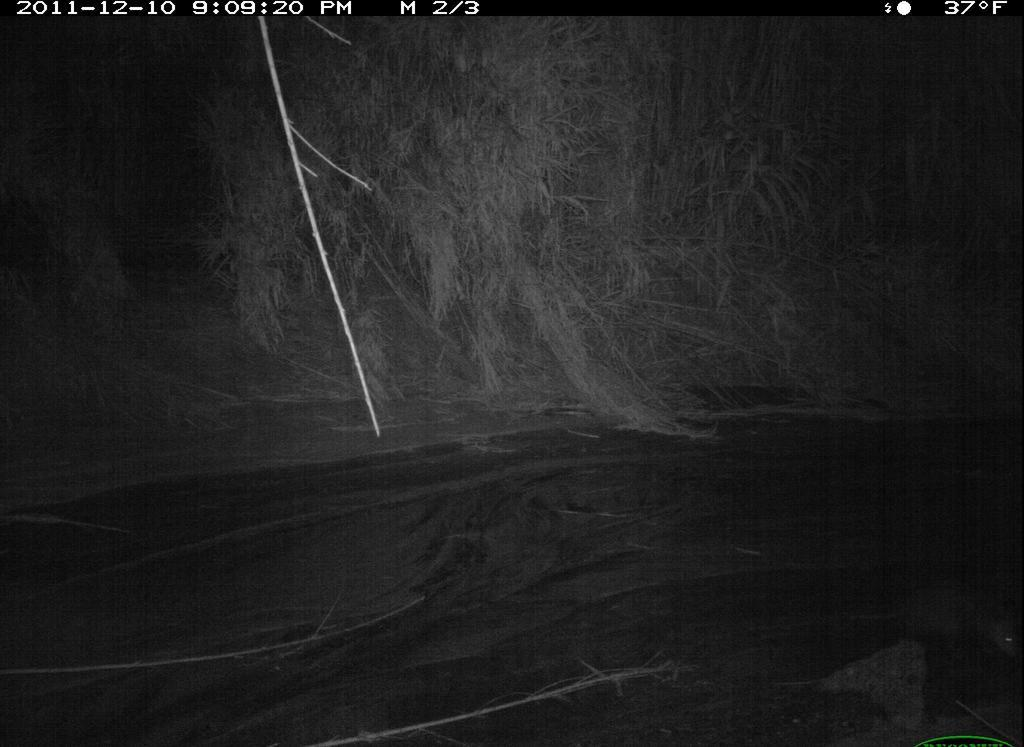opossum: (841, 546, 1019, 697)
